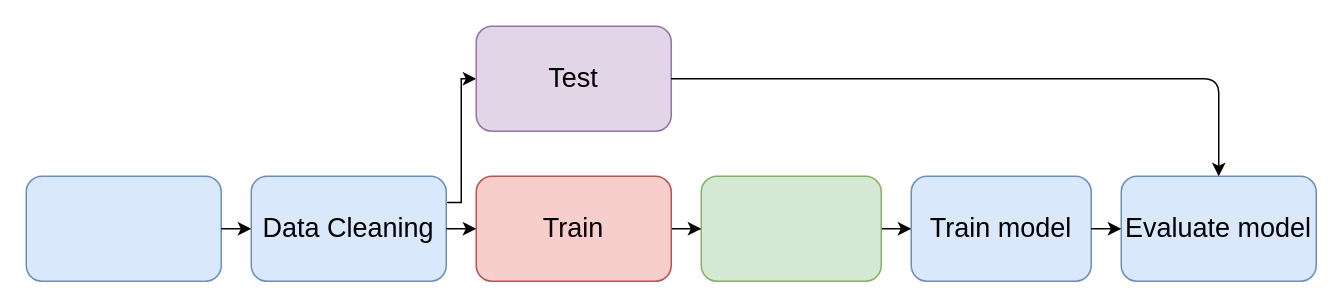
This 1343x308 diagram has some shape labels left out. The shapes that lost their labels are listed below. From the top down, each one's box as (x1, y1, x2, y2) in pixels, then its label:
(25, 175, 221, 281): Data Acquisition
(700, 175, 881, 281): Data augmentation
